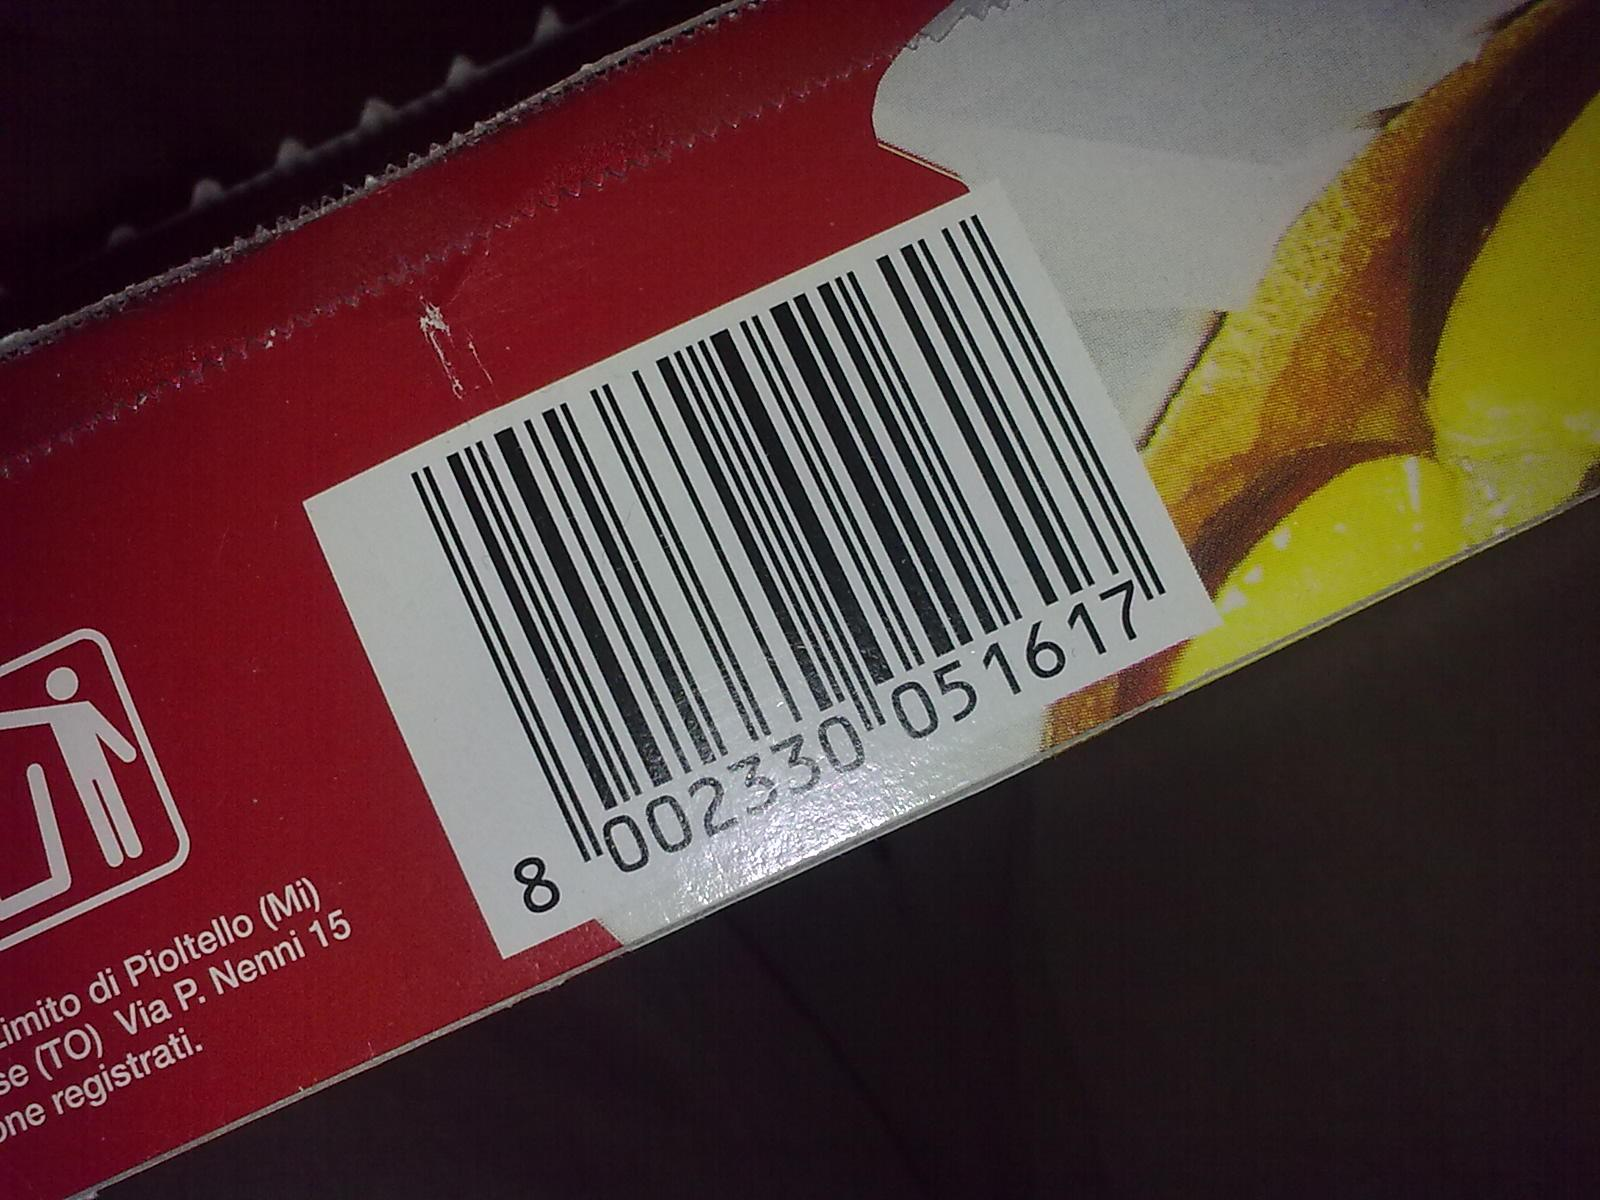barcode: (302, 192, 1214, 961)
